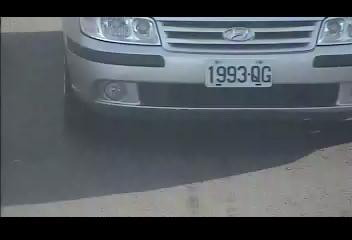plate: (204, 58, 274, 89)
